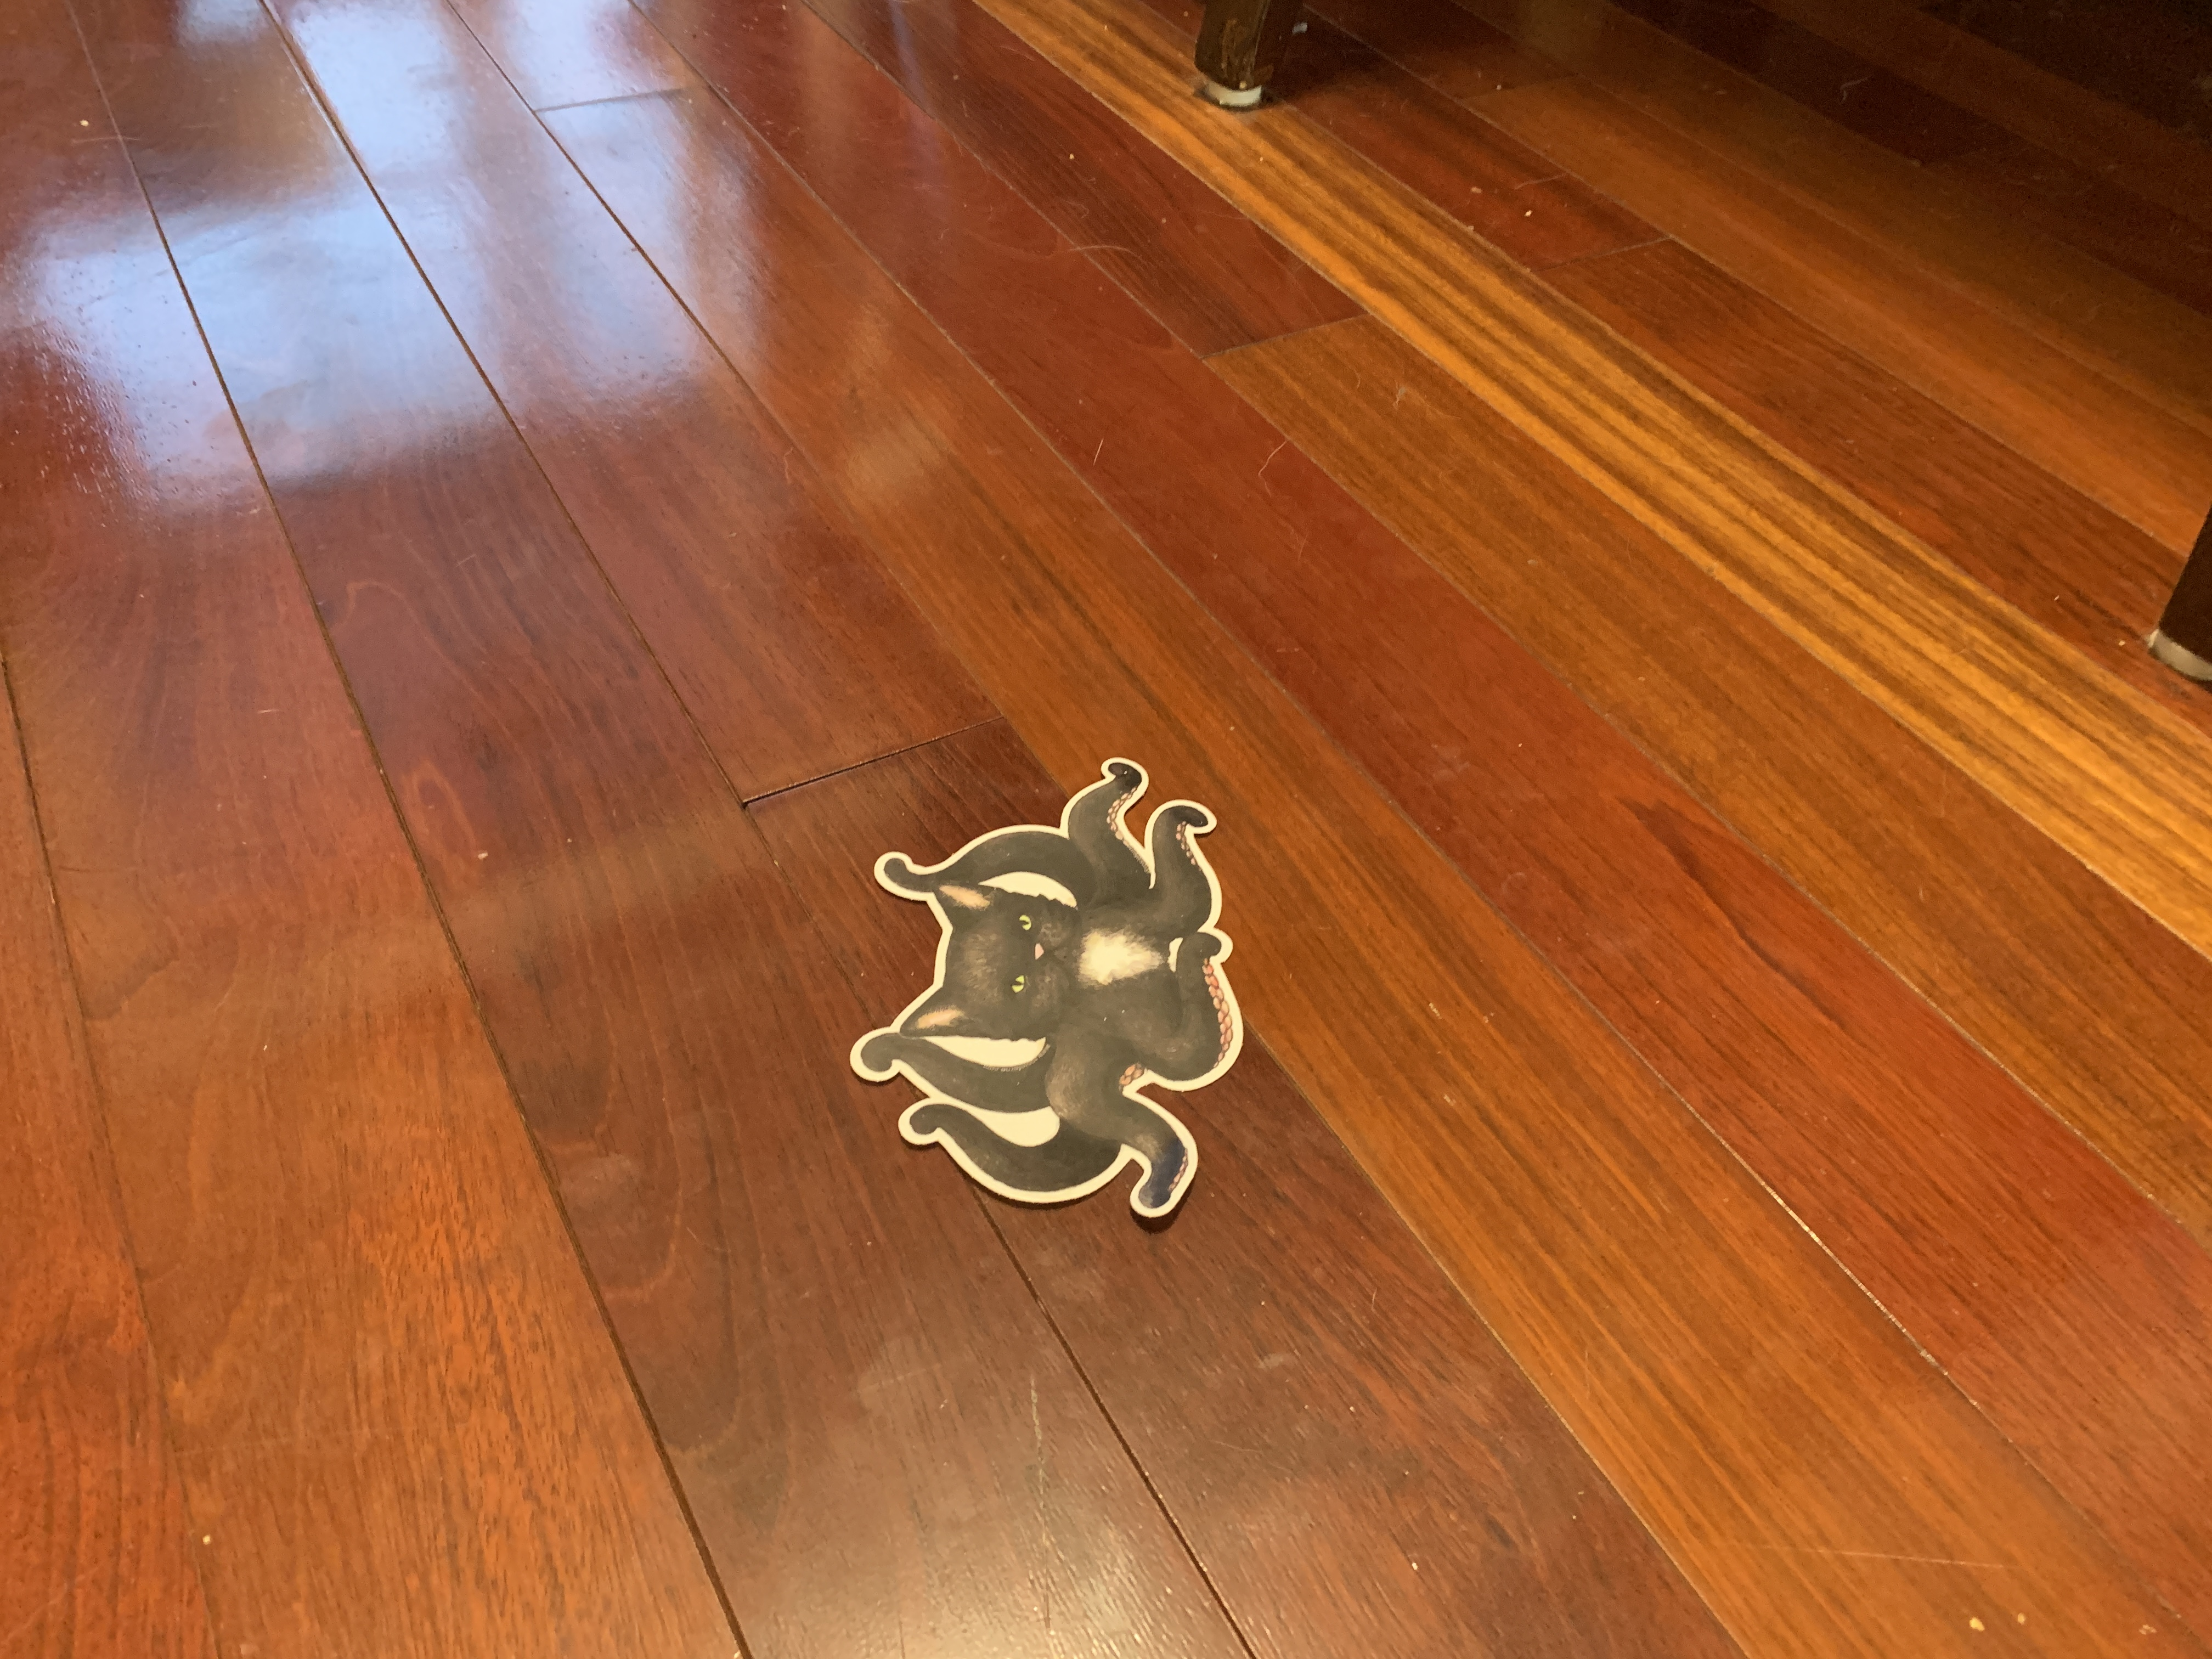Octocat-OffBrand: (831, 720, 1249, 1276)
